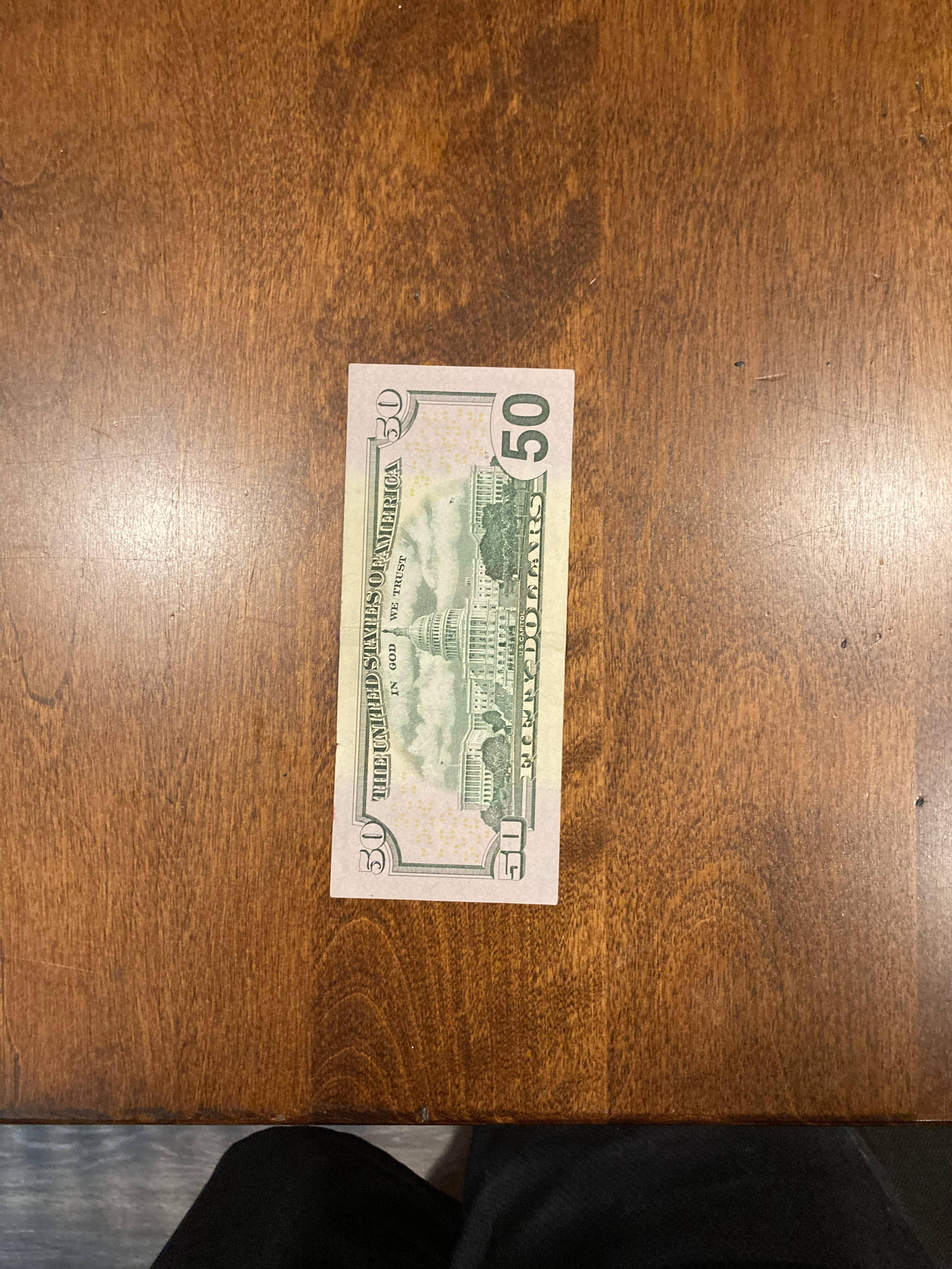fifty-back: (328, 364, 577, 905)
